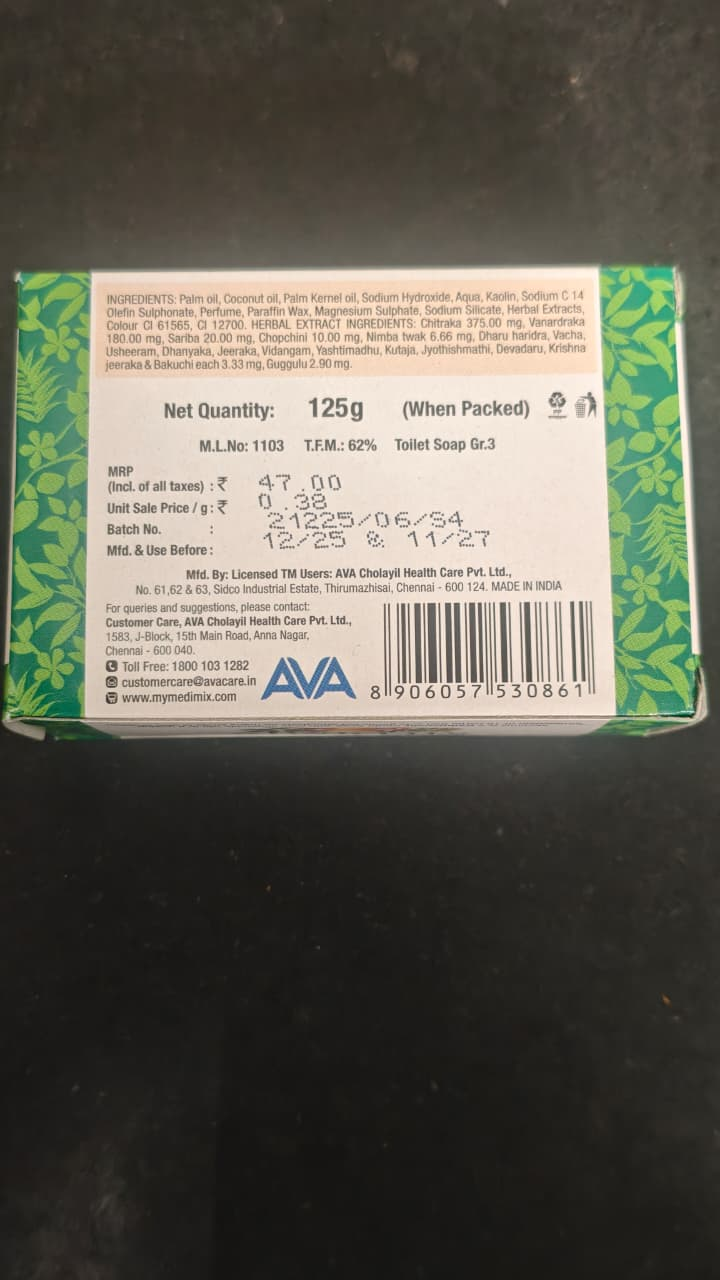Brand: (254, 652, 366, 705)
EXP_Date: (394, 531, 508, 564)
Ingredients: (96, 288, 598, 376)
MFG_Date: (322, 508, 476, 534)
MRP: (93, 466, 353, 496)
